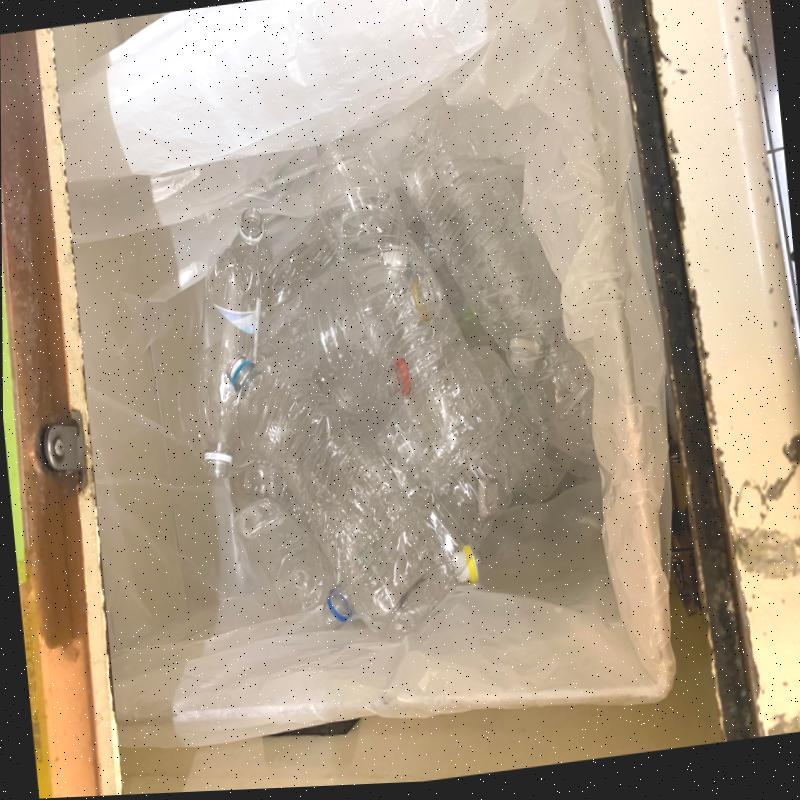plastic bottle: (226, 353, 456, 642), (314, 134, 495, 480), (398, 105, 558, 375), (195, 244, 260, 474), (233, 498, 324, 614)
